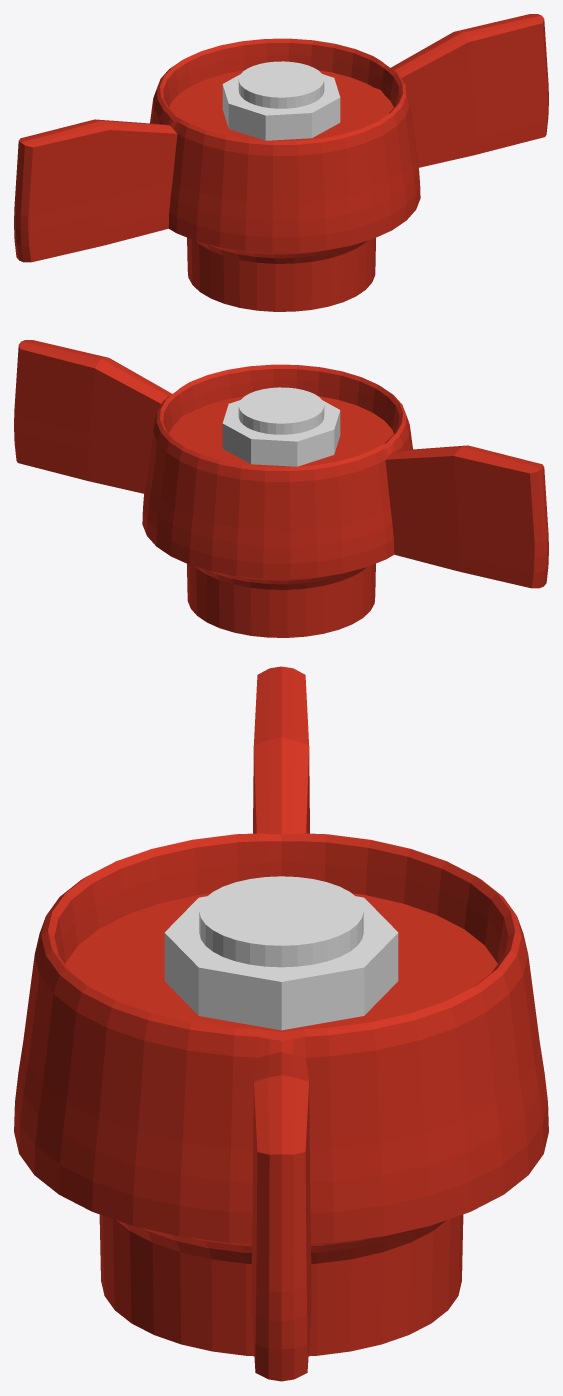
Rendered from butterfly valve.fbx.
3 renders of one model, top to bottom at view 1: azimuth 30°, elevation 25°; view 2: azimuth 150°, elevation 25°; view 3: azimuth 270°, elevation 25°, orthographic. The views are drawn at different scales.
Parts seen in each view (by area): view 1: Cylinder, Cube; view 2: Cylinder, Cube; view 3: Cylinder, Cube.
Part boxes in pixels (<box>): Cylinder: <box>14,14,548,311</box>; Cube: <box>222,61,340,140</box>; Cylinder: <box>14,340,548,637</box>; Cube: <box>222,387,340,466</box>; Cylinder: <box>14,666,548,1381</box>; Cube: <box>164,876,398,1030</box>.
Size of the model in its own units: 653 by 229 by 296.
